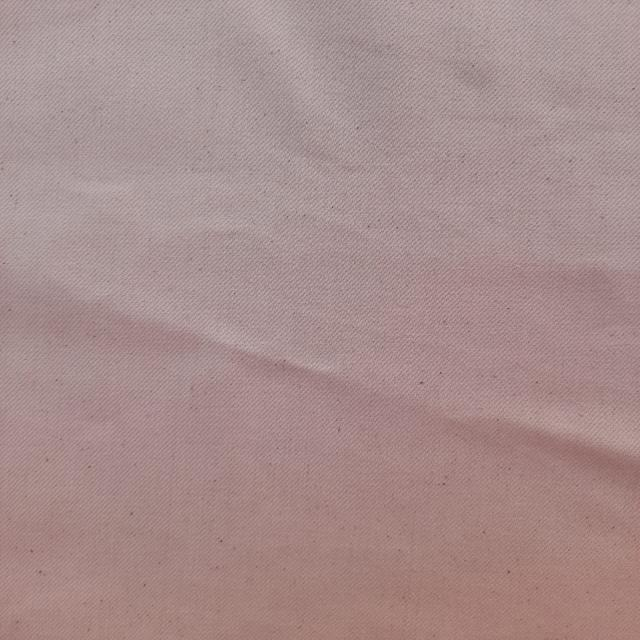taaaches: (428, 42, 510, 98)
